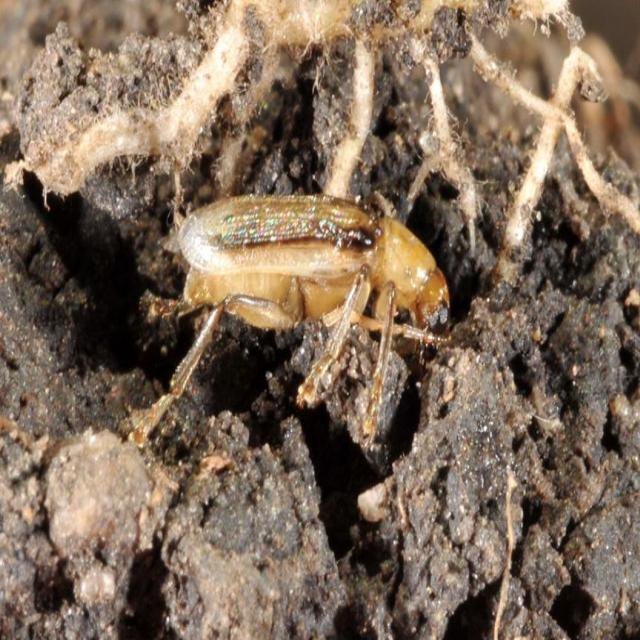trips: (128, 195, 454, 453)
